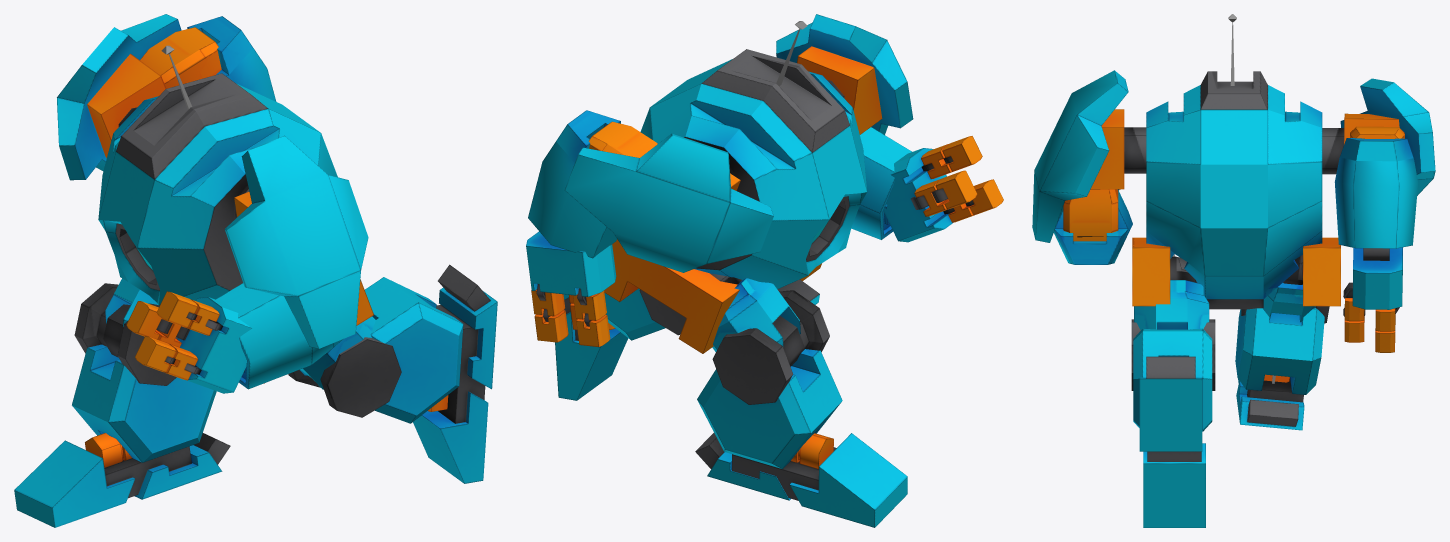
Rendered from Walk34.obj.
3 renders of one model, left to right at view 1: azimuth 30°, elevation 25°; view 2: azimuth 150°, elevation 25°; view 3: azimuth 270°, elevation 25°, orthographic. The views are drawn at different scales.
Parts seen in each view (by area): view 1: Plane001, Object006, Object013, Object010, Object002, Object011, Object014, Object008, Object007, Object003, Object012, Object009; view 2: Plane001, Object002, Object010, Object011, Object006, Object008, Object004, Object003, Object014, Object007, Object009, Object013; view 3: Plane001, Object006, Object014, Object003, Object010, Object004, Object002, Object013, Object012, Object011, Object007, Object009 (+2 smaller).
Boxes of the visible parts, left/top/right/bottom form: Plane001: left=98, top=73, right=373, bottom=383; Object006: left=224, top=135, right=368, bottom=348; Object013: left=288, top=277, right=463, bottom=423; Object010: left=72, top=283, right=216, bottom=462; Object002: left=57, top=14, right=221, bottom=180; Object011: left=14, top=433, right=230, bottom=527; Object014: left=413, top=264, right=497, bottom=483; Object008: left=126, top=291, right=251, bottom=393; Object007: left=216, top=283, right=342, bottom=389; Object003: left=187, top=16, right=276, bottom=101; Object012: left=299, top=316, right=375, bottom=389; Object009: left=105, top=278, right=158, bottom=326; Plane001: left=604, top=49, right=867, bottom=353; Object002: left=564, top=121, right=773, bottom=272; Object010: left=697, top=290, right=842, bottom=468; Object011: left=695, top=433, right=907, bottom=527; Object006: left=776, top=14, right=913, bottom=134; Object008: left=883, top=136, right=1003, bottom=242; Object004: left=526, top=231, right=616, bottom=346; Object003: left=528, top=110, right=620, bottom=258; Object014: left=555, top=294, right=628, bottom=400; Object007: left=851, top=127, right=911, bottom=239; Object009: left=710, top=273, right=800, bottom=351; Object013: left=604, top=288, right=686, bottom=340; Plane001: left=1132, top=71, right=1340, bottom=309; Object006: left=1032, top=70, right=1128, bottom=242; Object014: left=1139, top=356, right=1205, bottom=527; Object003: left=1334, top=138, right=1418, bottom=248; Object010: left=1235, top=306, right=1329, bottom=394; Object004: left=1343, top=247, right=1402, bottom=352; Object002: left=1340, top=78, right=1435, bottom=195; Object013: left=1131, top=319, right=1215, bottom=431; Object012: left=1134, top=256, right=1209, bottom=330; Object011: left=1236, top=374, right=1304, bottom=430; Object007: left=1053, top=189, right=1132, bottom=264; Object009: left=1263, top=255, right=1315, bottom=322.
Bounding box in the file's own units: 177 × 201 × 182.
